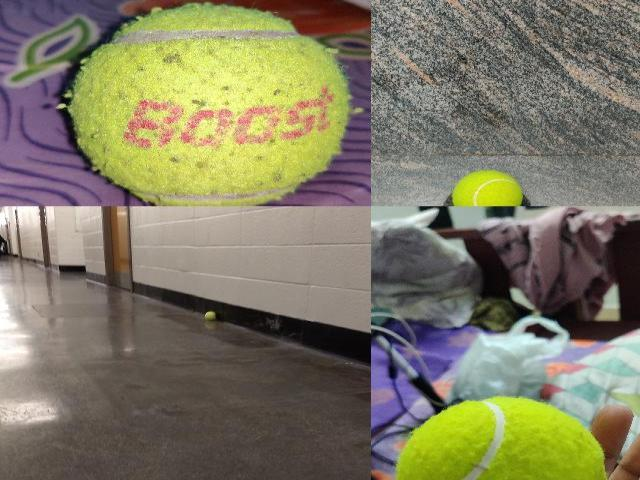tennis-ball: (69, 0, 352, 206), (395, 394, 608, 480), (452, 170, 523, 206), (204, 310, 216, 320)
